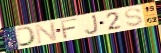2: (106, 11, 124, 32)
D: (15, 26, 37, 48)
F: (60, 17, 80, 40)
J: (84, 14, 100, 35)
N: (34, 21, 59, 45)
S: (124, 7, 145, 27)
